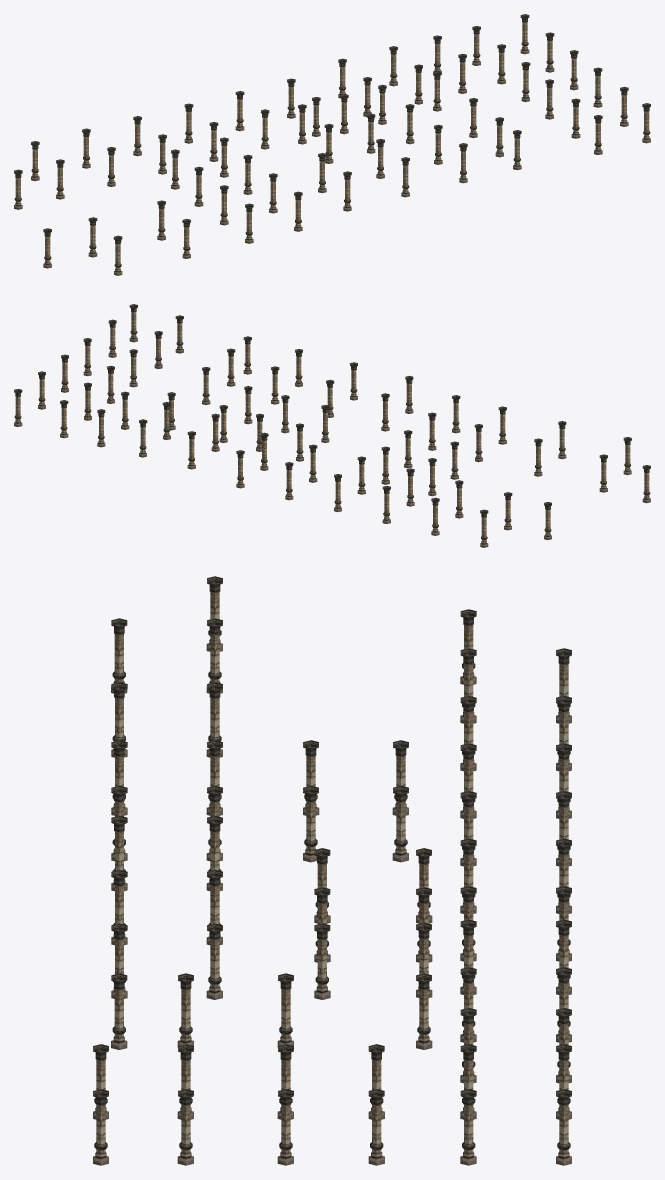
File: Old_PhoenixCastle_Block_wall03.FBX
3 renders of one model, top to bottom at view 1: azimuth 30°, elevation 25°; view 2: azimuth 150°, elevation 25°; view 3: azimuth 270°, elevation 25°, orthographic. The views are drawn at different scales.
Visible parts, largest first — view 1: Object003; view 2: Object003; view 3: Object003.
Boxes of the visible parts, x1,y1,x2,y2 form: Object003: [14, 14, 650, 275]; Object003: [14, 304, 650, 547]; Object003: [93, 576, 571, 1165].
Size of the model in its own units: 9319 by 685 by 3518.
1 material, 1 textured.
